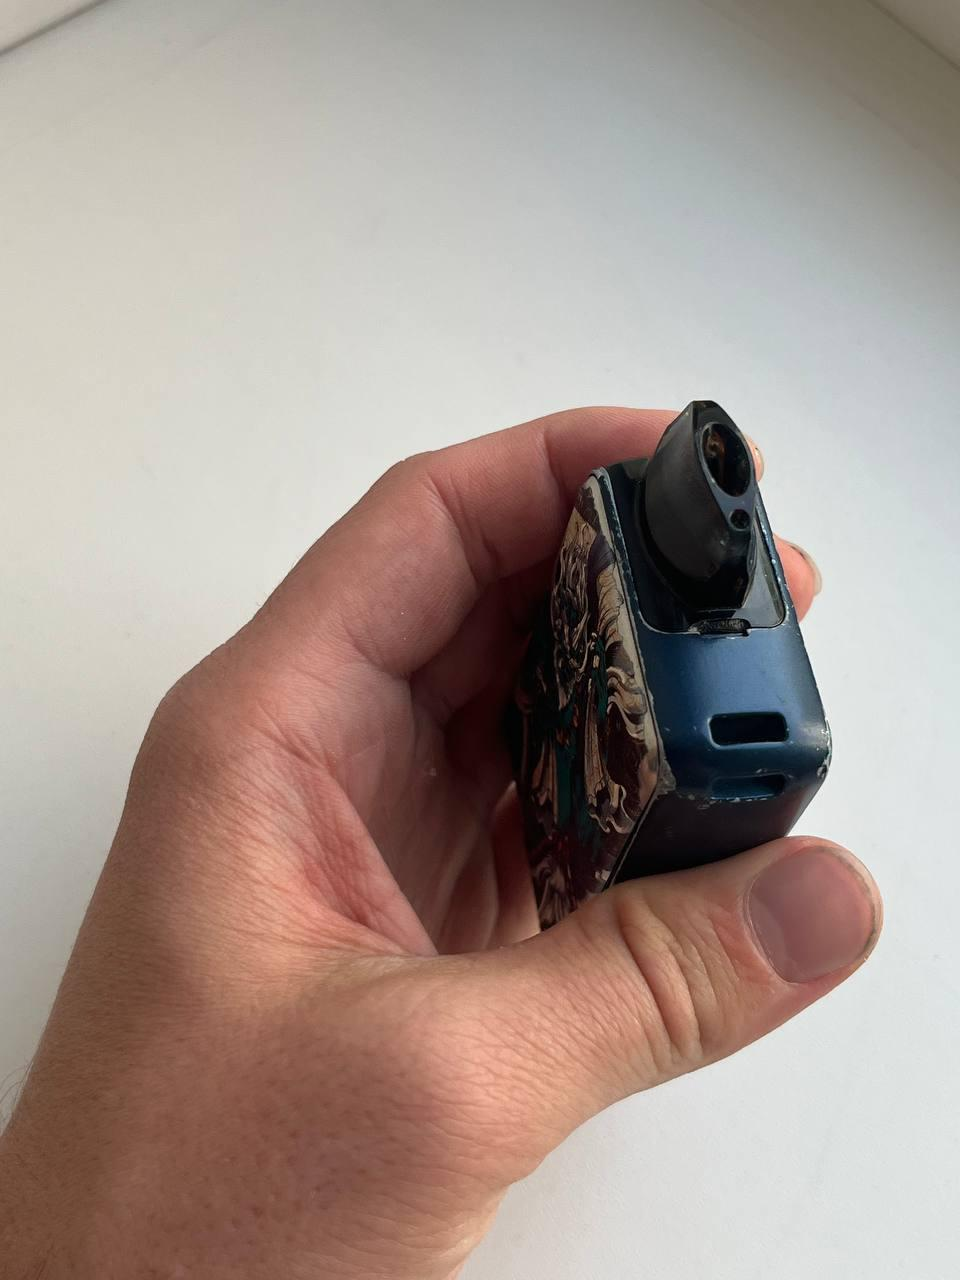Vape: (508, 401, 830, 928)
